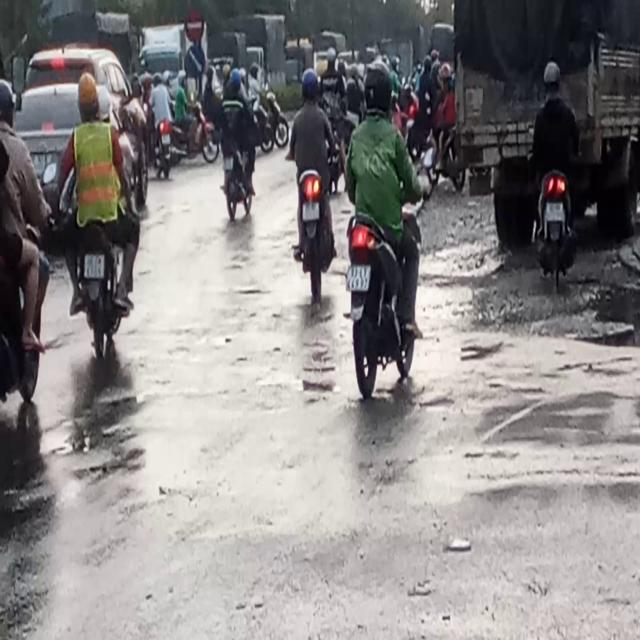bien_trang: (345, 262, 370, 292)
